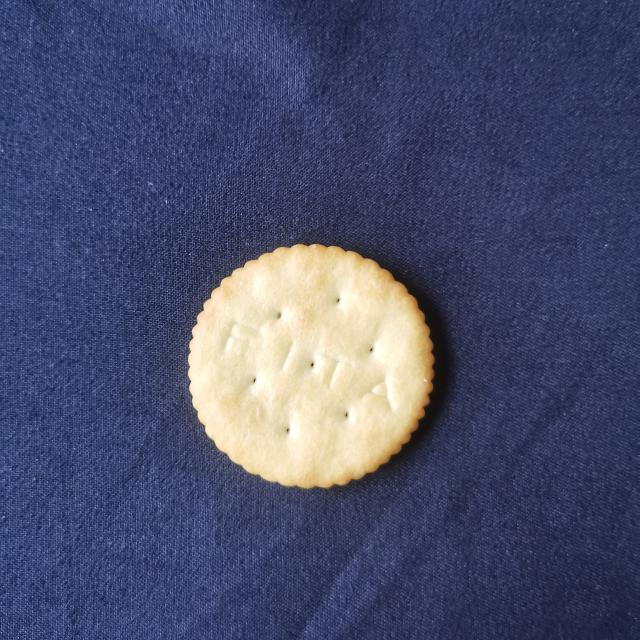Intact: (184, 232, 445, 494)
